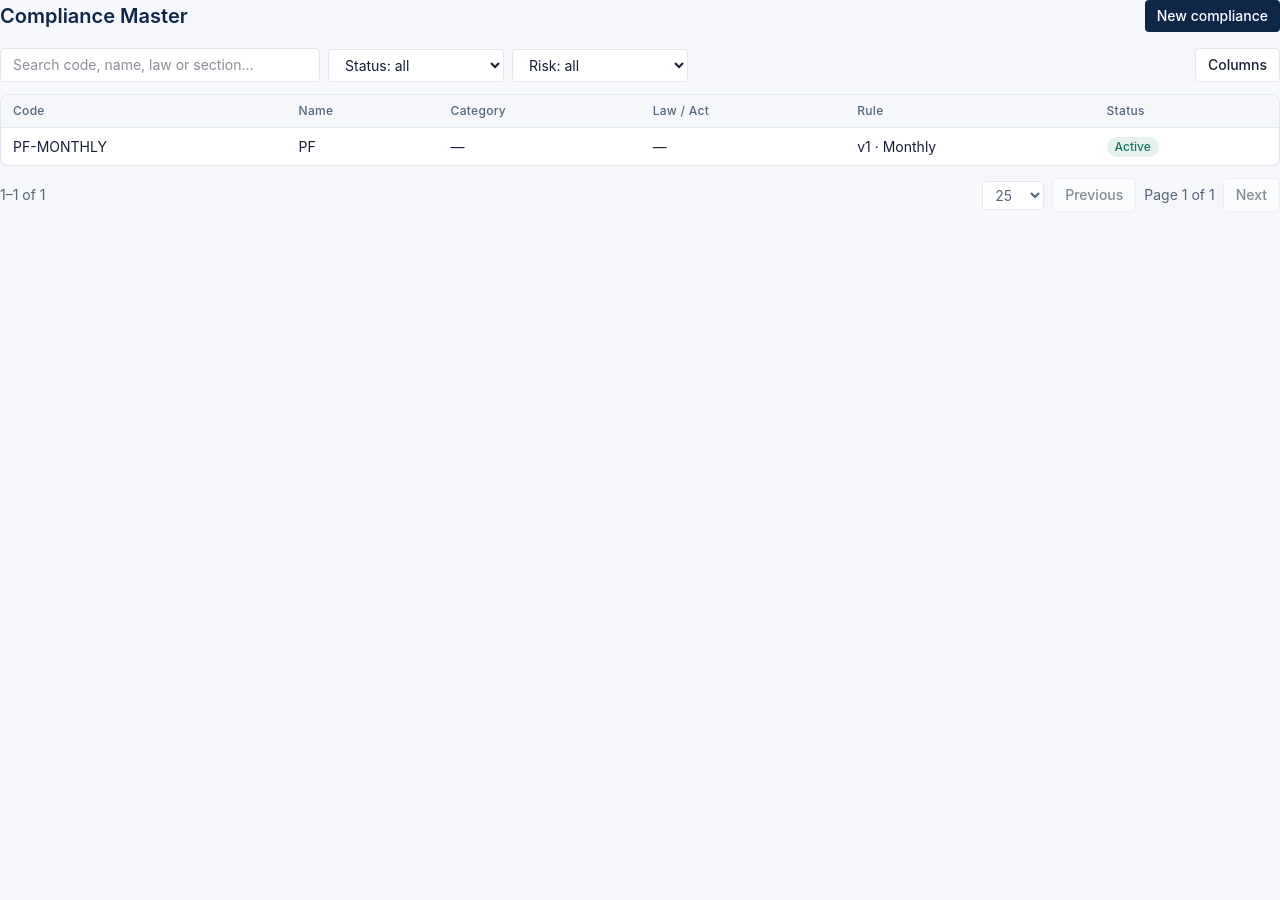
Test: AdminRegister (Compliance Master) › a concurrent change (no row matched) is reported, not silently overwritten
This screenshot has width=1280, height=900.
Click the text "PF-MONTHLY". click: coordinates (60, 146)
box: [1,128,286,165]
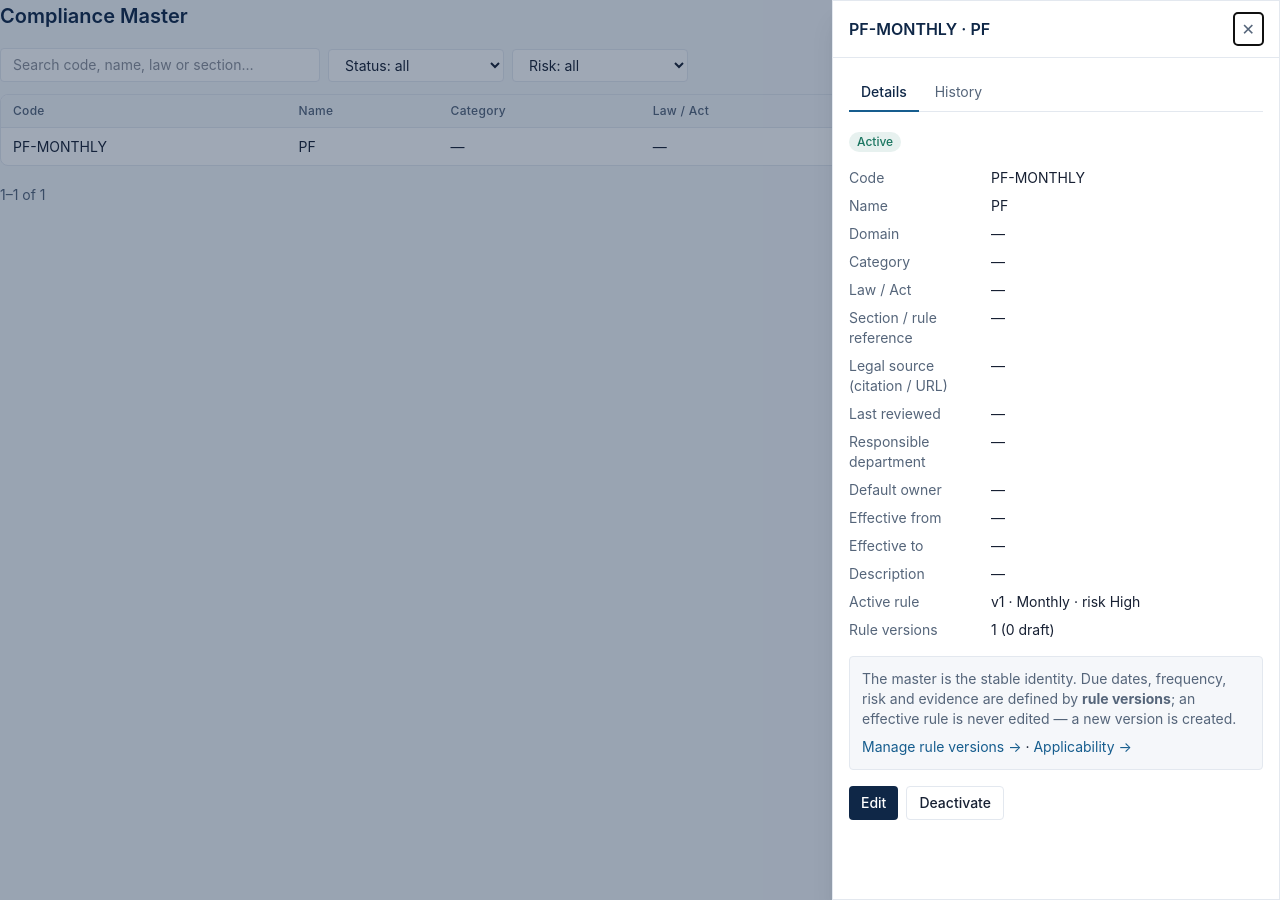
Click the button "Edit". click: coordinates (874, 803)
box: [849,786,898,820]
(page scrolled)
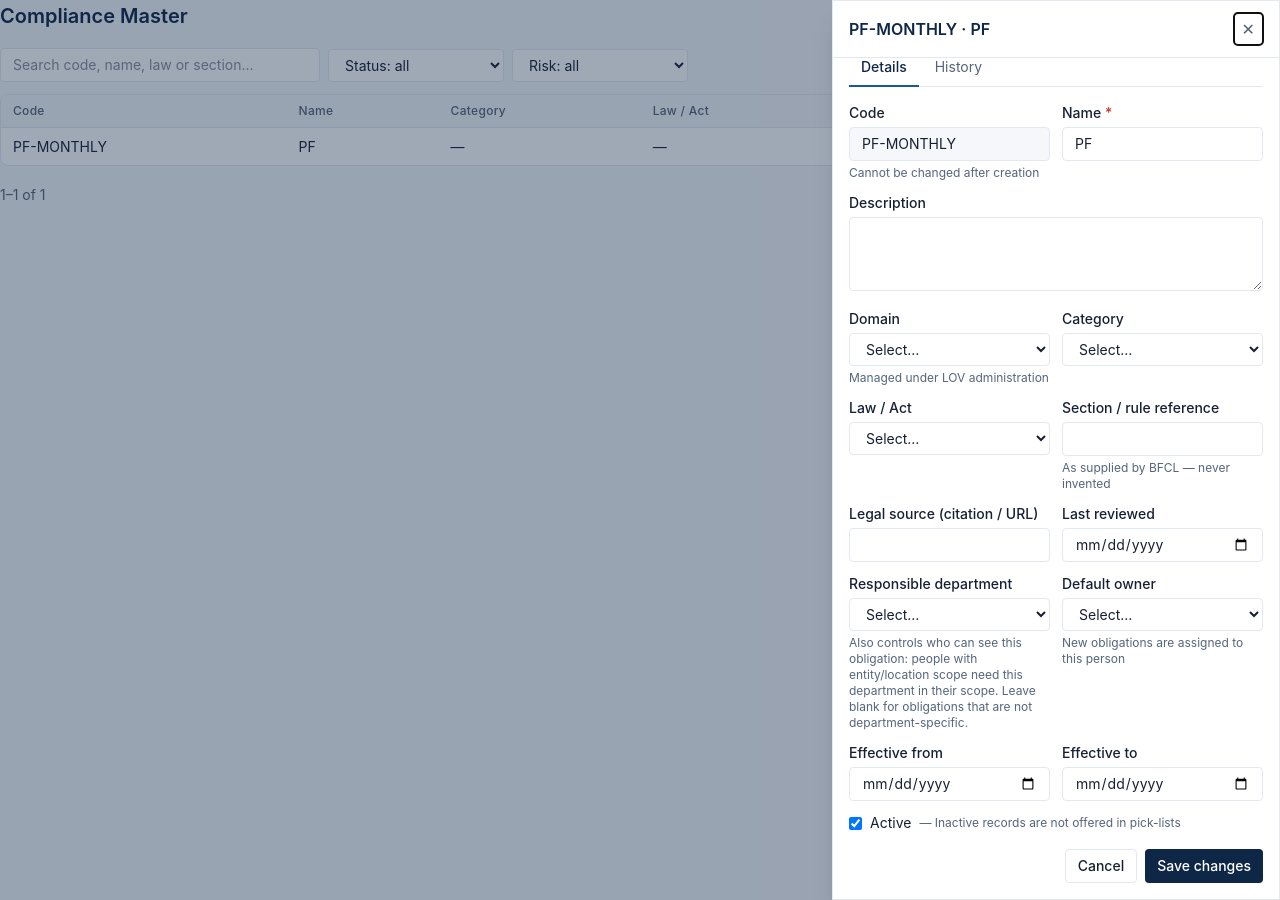
Click the button "Save changes". click: coordinates (1204, 866)
box: [1145,849,1263,883]
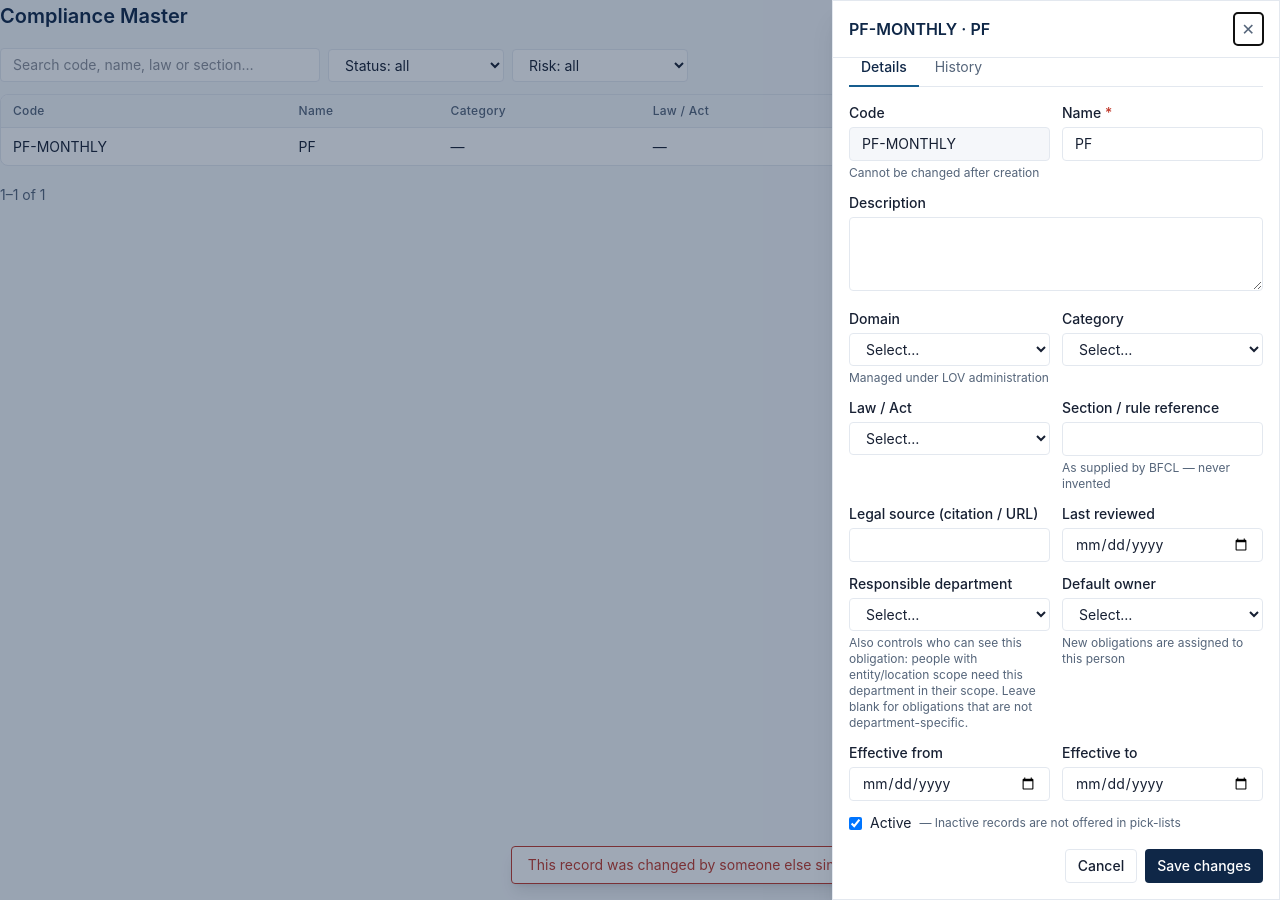
Check: the text "changed by someone else" is shown, box [528,856,1247,873]
